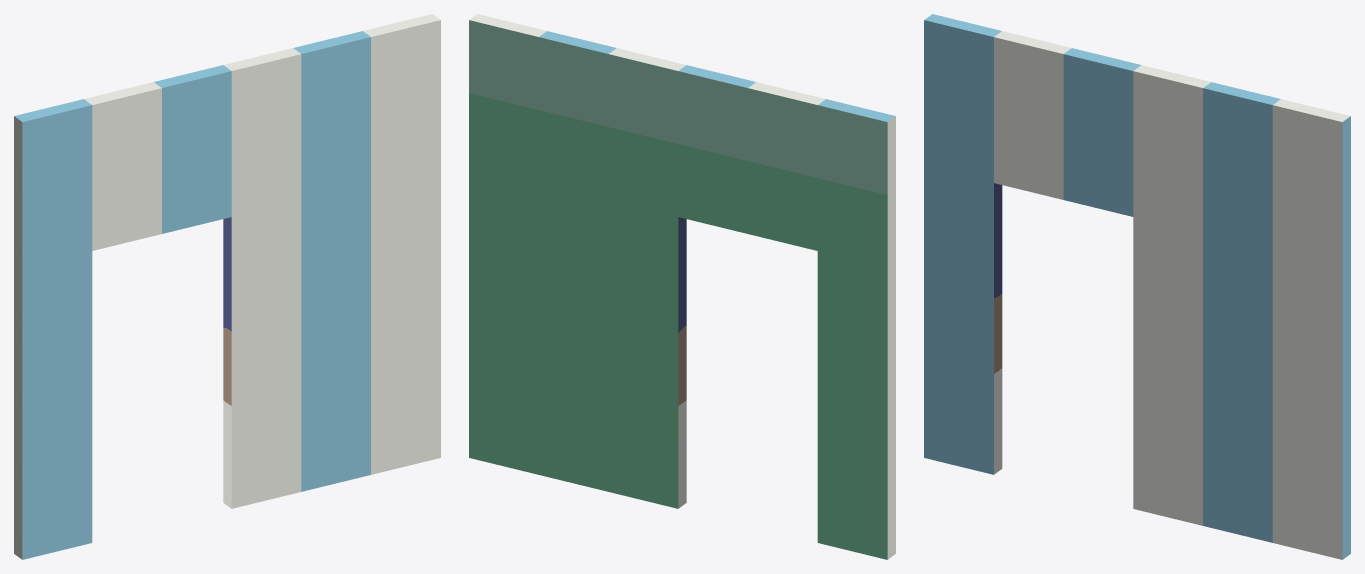
Rendered from BedroomLivingRoomDoorWall.fbx.
3 renders of one model, left to right at view 1: azimuth 30°, elevation 25°; view 2: azimuth 150°, elevation 25°; view 3: azimuth 330°, elevation 25°, orthographic.
Visible parts, largest first — view 1: Cube.001; view 2: Cube.001; view 3: Cube.001.
Part boxes in pixels (x1=…): Cube.001: x1=14, y1=14, x2=440, y2=559; Cube.001: x1=469, y1=14, x2=895, y2=559; Cube.001: x1=924, y1=14, x2=1350, y2=559.
Bounding box in the file's own units: 100 × 2900 × 2900.
